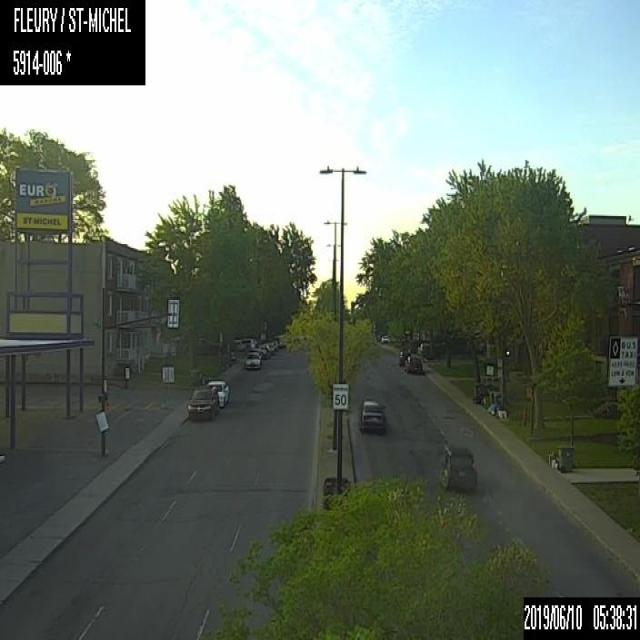vehicle: (435, 442, 480, 490), (186, 387, 218, 420), (358, 398, 386, 431), (203, 378, 230, 409), (402, 354, 426, 374), (243, 351, 262, 372), (233, 335, 257, 351), (396, 348, 408, 368), (256, 342, 270, 358)
